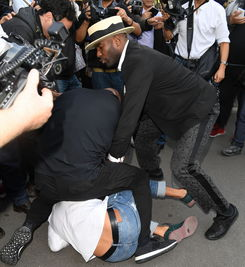10+: (1, 1, 243, 263)
down: (31, 173, 209, 262)
